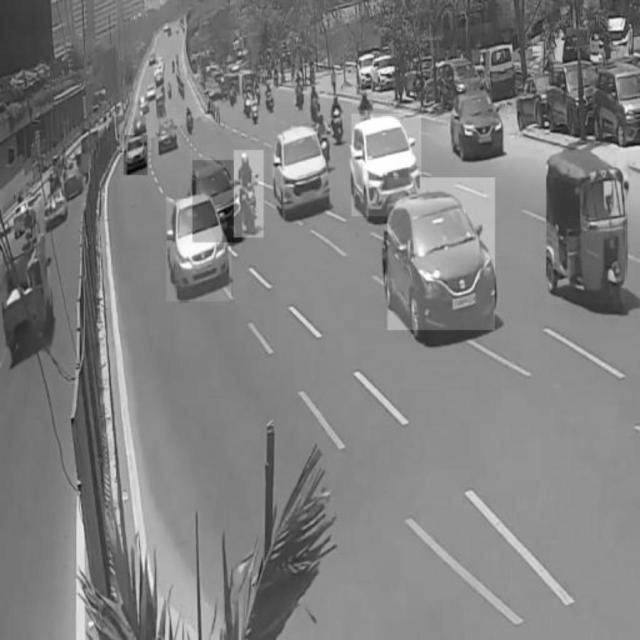vehicle: (388, 178, 496, 330), (547, 150, 627, 304), (351, 114, 421, 216), (166, 199, 230, 301), (272, 132, 332, 214), (192, 160, 243, 242), (544, 59, 598, 135), (594, 65, 640, 145), (450, 88, 501, 158), (234, 150, 264, 238), (124, 135, 148, 175)
